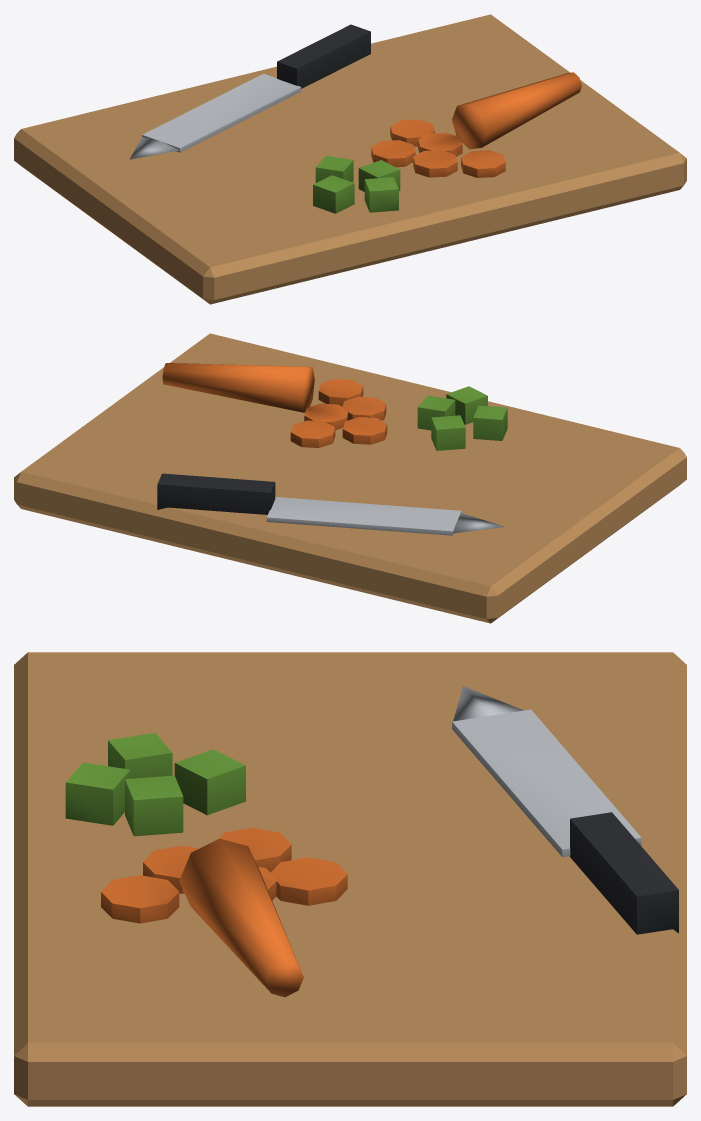
Rendered from board.glb.
3 renders of one model, top to bottom at view 1: azimuth 30°, elevation 25°; view 2: azimuth 150°, elevation 25°; view 3: azimuth 270°, elevation 25°, orthographic. The views are drawn at different scales.
Visible parts, largest first — view 1: board; view 2: board; view 3: board.
Part boxes in pixels (x1=…): board: x1=14, y1=14, x2=686, y2=304; board: x1=14, y1=333, x2=686, y2=623; board: x1=14, y1=652, x2=686, y2=1106.
Size of the model in its own units: 0.34 by 0.055 by 0.24.
